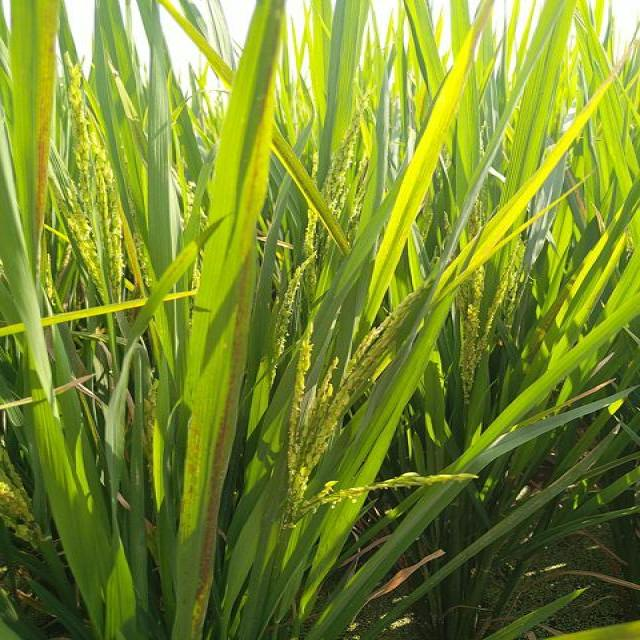Leaf Streak: (191, 73, 272, 639), (272, 136, 349, 256), (161, 5, 233, 91), (37, 0, 59, 239), (528, 287, 568, 355), (180, 417, 203, 513)
